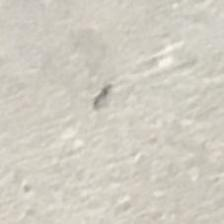Non_Crack: (8, 35, 224, 216)
